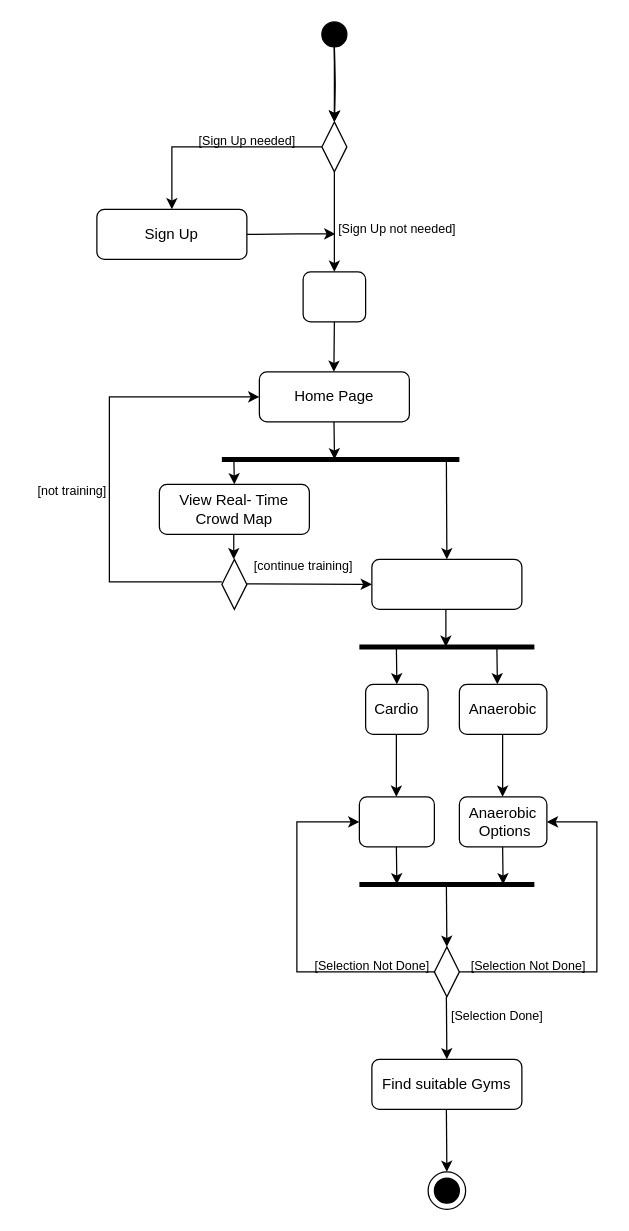
This 629x1231 diagram has some shape labels left out. Each missing label, with the box of its shape:
Cardio Options: (358, 796, 434, 847)
Choose Workout: (371, 558, 522, 609)
Login: (302, 271, 366, 322)
